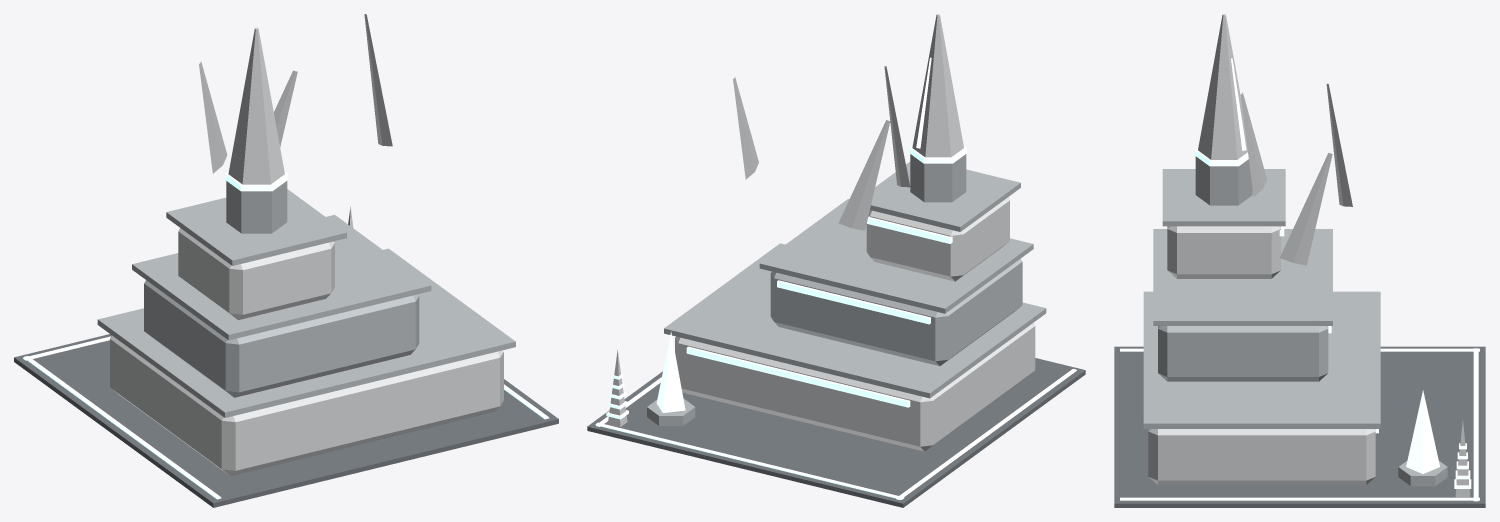
File: zone_low_6_t5.glb
3 views of the same model, side by side, from view 1: azimuth 30°, elevation 25°; view 2: azimuth 150°, elevation 25°; view 3: azimuth 270°, elevation 25° (orthographic). The views are drawn at different scales.
Parts seen in each view (by area): view 1: zone_low_6_t5, detail; view 2: zone_low_6_t5, detail; view 3: zone_low_6_t5, detail.
Boxes of the visible parts, x1,y1,x2,y2 form: zone_low_6_t5: [14, 14, 558, 507]; detail: [23, 207, 549, 499]; zone_low_6_t5: [587, 14, 1085, 507]; detail: [595, 350, 1076, 499]; zone_low_6_t5: [1114, 14, 1485, 507]; detail: [1120, 348, 1479, 501].
Size of the model in its own units: 19.6 by 22.31 by 19.6.
